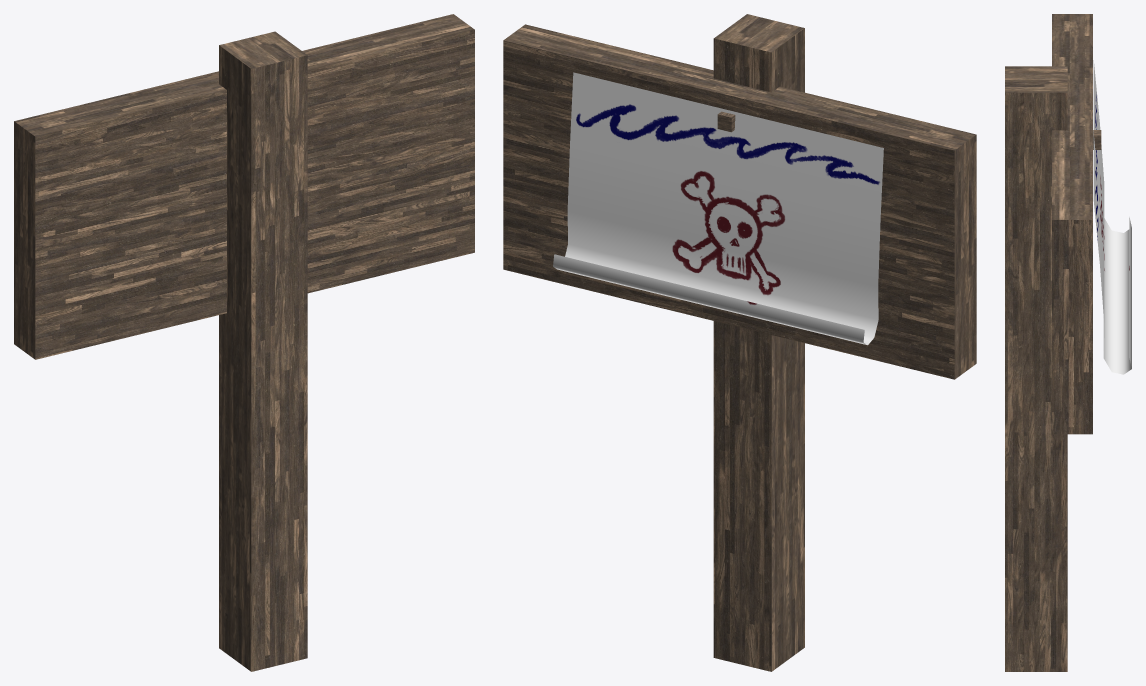
The model's file is WoodSign 1.fbx.
The picture shows the model from 3 angles, left to right: view 1: azimuth 30°, elevation 25°; view 2: azimuth 150°, elevation 25°; view 3: azimuth 270°, elevation 25°; orthographic projection. The views are drawn at different scales.
Parts seen in each view (by area): view 1: Cube.001; view 2: Cube.001; view 3: Cube.001.
Part boxes in pixels (<box>): Cube.001: <box>14,14,474,671</box>; Cube.001: <box>503,14,976,671</box>; Cube.001: <box>1005,14,1131,671</box>.
Size of the model in its own units: 275 by 360 by 71.44.
